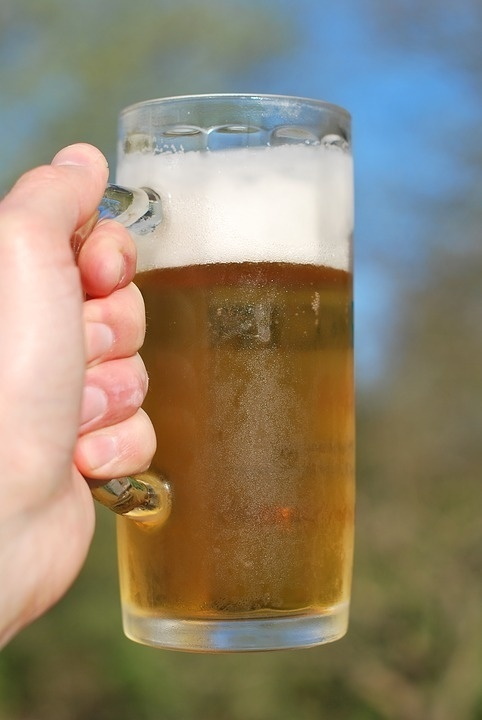whiskey: (109, 103, 359, 641)
